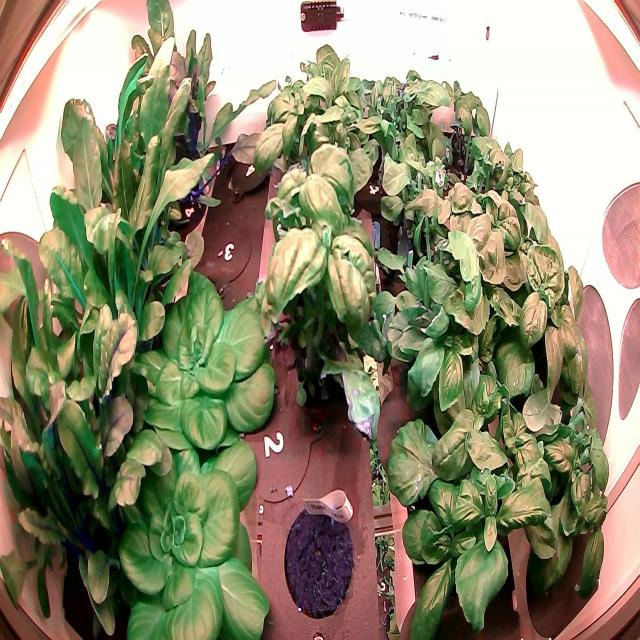empty_pod: (196, 201, 255, 297), (216, 129, 274, 208)
pod: (281, 490, 361, 627)
young: (105, 426, 276, 639), (121, 252, 278, 454)
